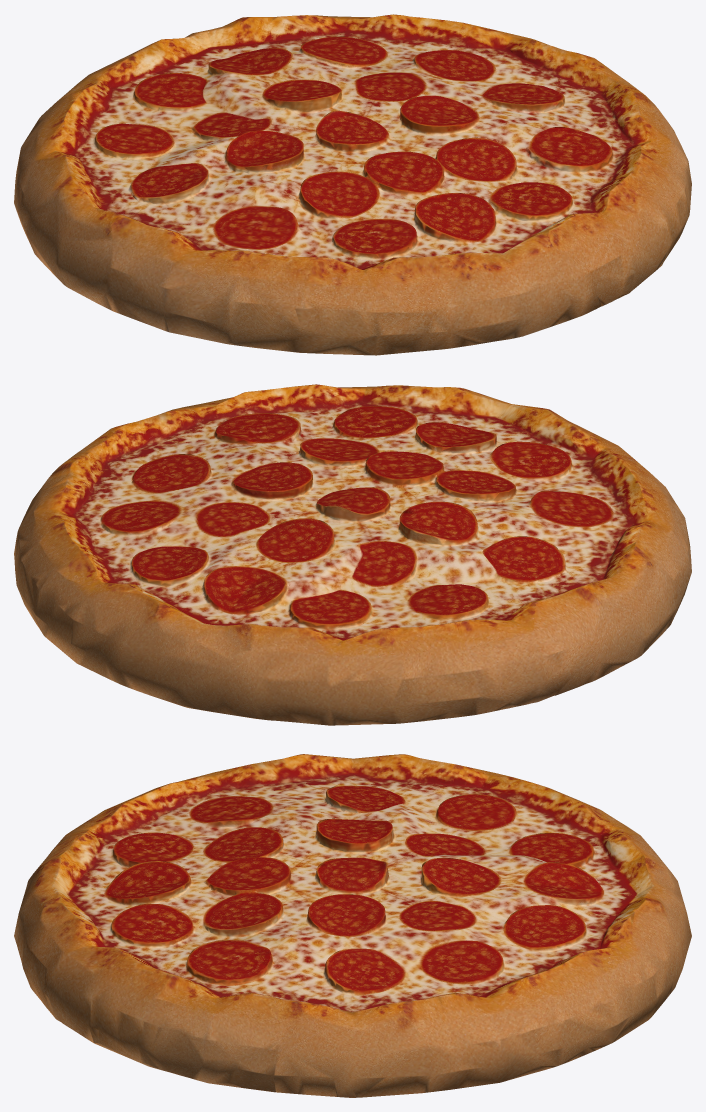
File: birthday_pizza.glb
3 renders of one model, top to bottom at view 1: azimuth 30°, elevation 25°; view 2: azimuth 150°, elevation 25°; view 3: azimuth 270°, elevation 25°, orthographic.
Visible parts, largest first — view 1: Mesh_0; view 2: Mesh_0; view 3: Mesh_0.
Boxes of the visible parts, bbox=[...] form: Mesh_0: bbox=[14, 14, 691, 355]; Mesh_0: bbox=[14, 384, 691, 725]; Mesh_0: bbox=[14, 754, 691, 1097].
Bounding box in the file's own units: 1.9 × 0.3185 × 1.9.
Materials: 1 (1 with a texture image).
